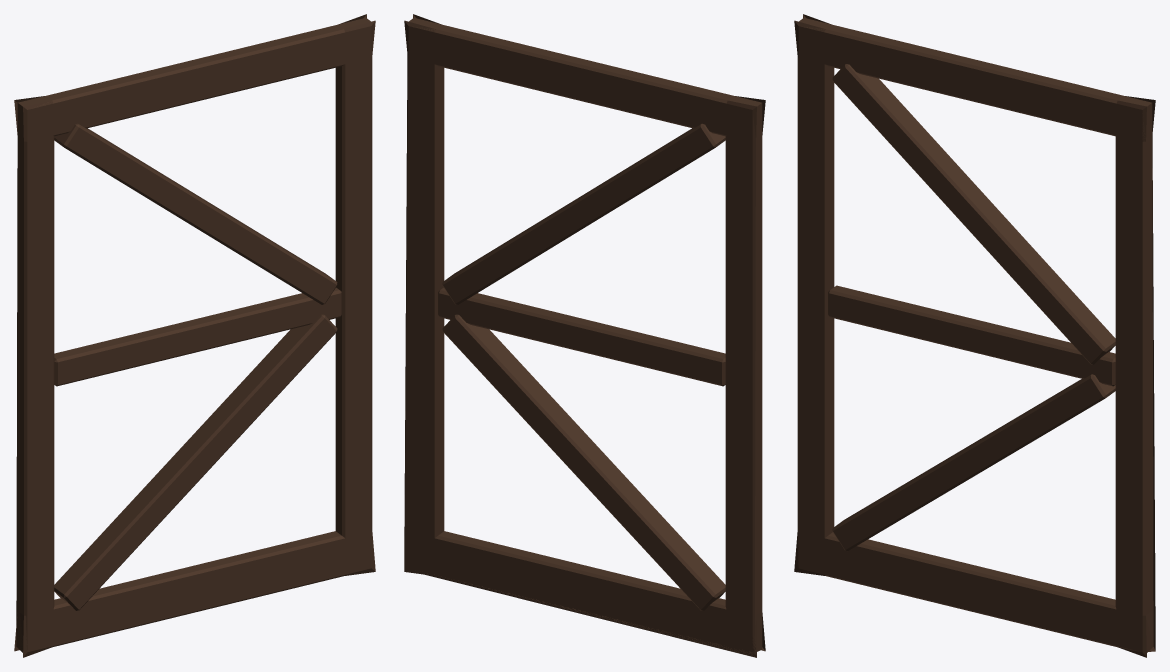
File: timber_plain_w8.fbx
3 renders of one model, left to right at view 1: azimuth 30°, elevation 25°; view 2: azimuth 150°, elevation 25°; view 3: azimuth 330°, elevation 25°, orthographic.
Parts seen in each view (by area): view 1: timber_plain_w8; view 2: timber_plain_w8; view 3: timber_plain_w8.
Part boxes in pixels (x1,y1,x2,y2): timber_plain_w8: (14, 14, 375, 657); timber_plain_w8: (404, 14, 765, 657); timber_plain_w8: (794, 14, 1155, 657).
Bounding box in the file's own units: 810 × 1210 × 55.
